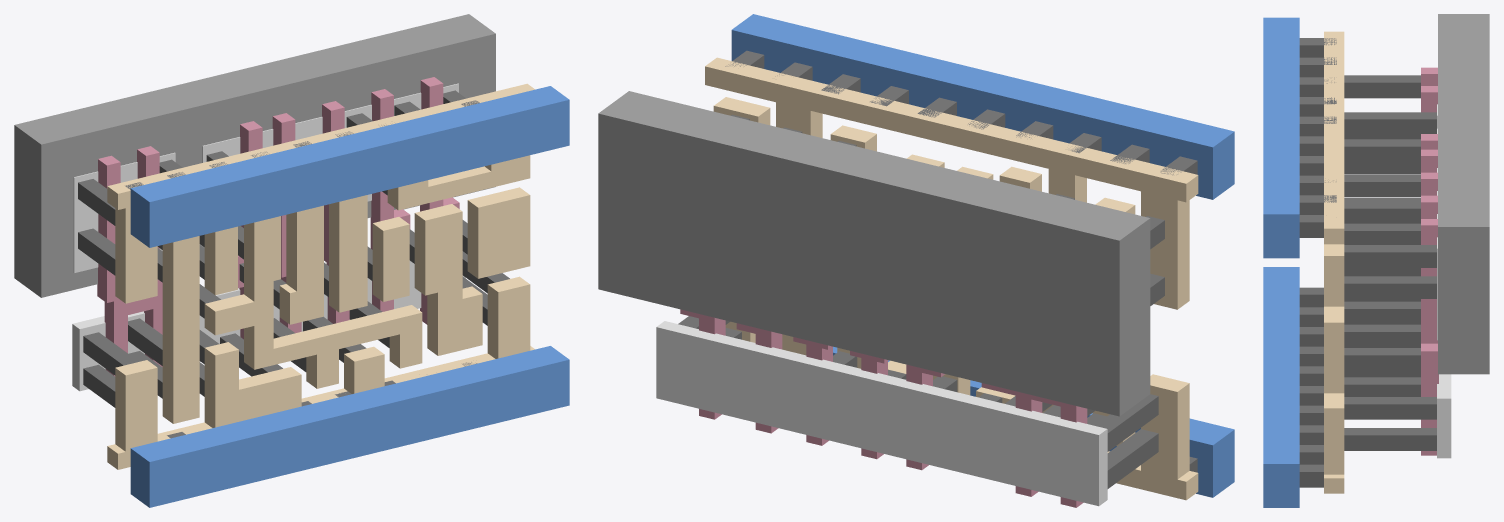
Rendered from sky130_fd_sc_hd__a2111o_2.gds.gltf.
3 renders of one model, left to right at view 1: azimuth 30°, elevation 25°; view 2: azimuth 150°, elevation 25°; view 3: azimuth 270°, elevation 25°, orthographic. The views are drawn at different scales.
Visible parts, largest first — view 1: sky130_fd_sc_hd__a2111o_2_li1, sky130_fd_sc_hd__a2111o_2_met1, sky130_fd_sc_hd__a2111o_2_nwell, sky130_fd_sc_hd__a2111o_2_licon, sky130_fd_sc_hd__a2111o_2_poly, sky130_fd_sc_hd__a2111o_2_diff, sky130_fd_sc_hd__a2111o_2_mcon; view 2: sky130_fd_sc_hd__a2111o_2_nwell, sky130_fd_sc_hd__a2111o_2_diff, sky130_fd_sc_hd__a2111o_2_li1, sky130_fd_sc_hd__a2111o_2_met1, sky130_fd_sc_hd__a2111o_2_licon, sky130_fd_sc_hd__a2111o_2_poly, sky130_fd_sc_hd__a2111o_2_mcon; view 3: sky130_fd_sc_hd__a2111o_2_licon, sky130_fd_sc_hd__a2111o_2_nwell, sky130_fd_sc_hd__a2111o_2_met1, sky130_fd_sc_hd__a2111o_2_mcon, sky130_fd_sc_hd__a2111o_2_li1, sky130_fd_sc_hd__a2111o_2_poly, sky130_fd_sc_hd__a2111o_2_diff.
Boxes of the visible parts, x1,y1,x2,y2 form: sky130_fd_sc_hd__a2111o_2_li1: (107,83,534,469); sky130_fd_sc_hd__a2111o_2_met1: (130,86,569,507); sky130_fd_sc_hd__a2111o_2_nwell: (14,14,495,297); sky130_fd_sc_hd__a2111o_2_licon: (78,90,509,407); sky130_fd_sc_hd__a2111o_2_poly: (97,77,459,376); sky130_fd_sc_hd__a2111o_2_diff: (72,83,465,391); sky130_fd_sc_hd__a2111o_2_mcon: (125,100,479,438); sky130_fd_sc_hd__a2111o_2_nwell: (598,91,1150,416); sky130_fd_sc_hd__a2111o_2_diff: (656,321,1107,506); sky130_fd_sc_hd__a2111o_2_li1: (705,57,1198,500); sky130_fd_sc_hd__a2111o_2_met1: (731,14,1234,497); sky130_fd_sc_hd__a2111o_2_licon: (678,114,1164,488); sky130_fd_sc_hd__a2111o_2_poly: (680,309,1087,507); sky130_fd_sc_hd__a2111o_2_mcon: (725,50,1197,472); sky130_fd_sc_hd__a2111o_2_licon: (1344,75,1436,450); sky130_fd_sc_hd__a2111o_2_nwell: (1438,14,1489,374); sky130_fd_sc_hd__a2111o_2_met1: (1263,17,1299,507); sky130_fd_sc_hd__a2111o_2_mcon: (1299,38,1336,487); sky130_fd_sc_hd__a2111o_2_li1: (1324,31,1344,493); sky130_fd_sc_hd__a2111o_2_poly: (1421,67,1438,455); sky130_fd_sc_hd__a2111o_2_diff: (1437,104,1451,458).
Bounding box in the file's own units: 4.98 × 3.2 × 2.24.
